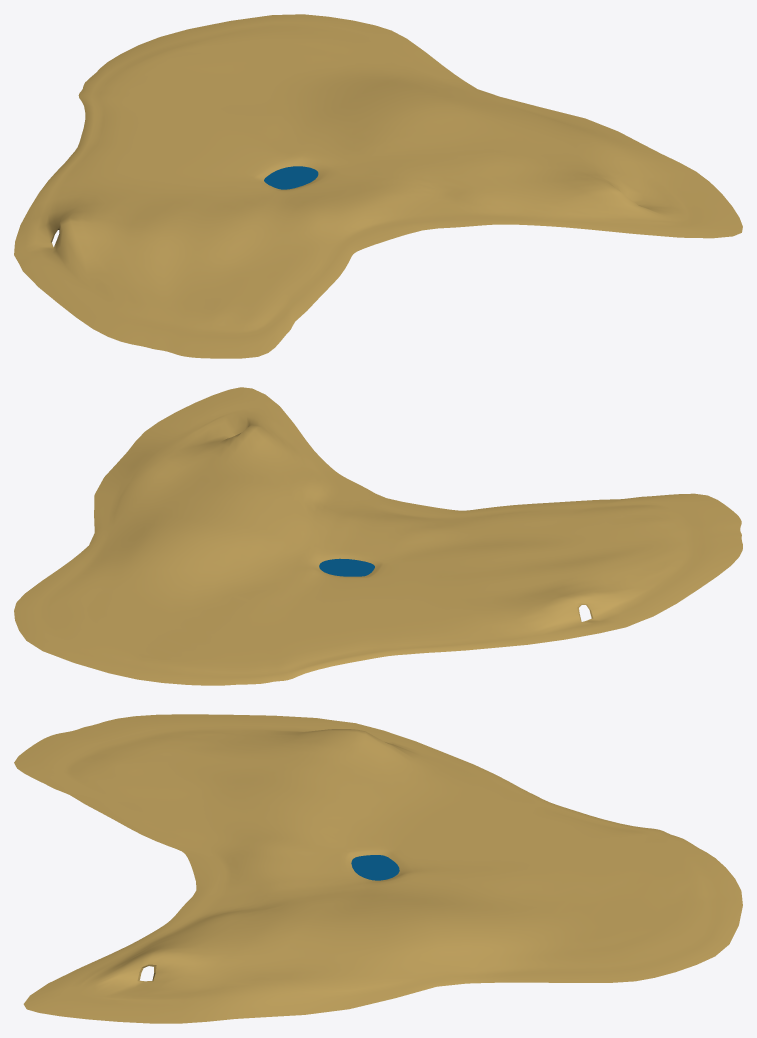
File: map_v01.fbx
The picture shows the model from 3 angles, top to bottom: view 1: azimuth 30°, elevation 25°; view 2: azimuth 150°, elevation 25°; view 3: azimuth 270°, elevation 25°; orthographic projection. The views are drawn at different scales.
Parts seen in each view (by area): view 1: beach, oasisPond; view 2: beach, oasisPond; view 3: beach, oasisPond.
Boxes of the visible parts, box(x1,y1,x2,y2) form: beach: box(14, 14, 742, 358); oasisPond: box(264, 166, 318, 189); beach: box(14, 387, 742, 685); oasisPond: box(319, 558, 374, 576); beach: box(14, 714, 742, 1023); oasisPond: box(351, 855, 399, 880).
Size of what is drawn, in the model's own units: 54.12 by 1.89 by 53.87.
